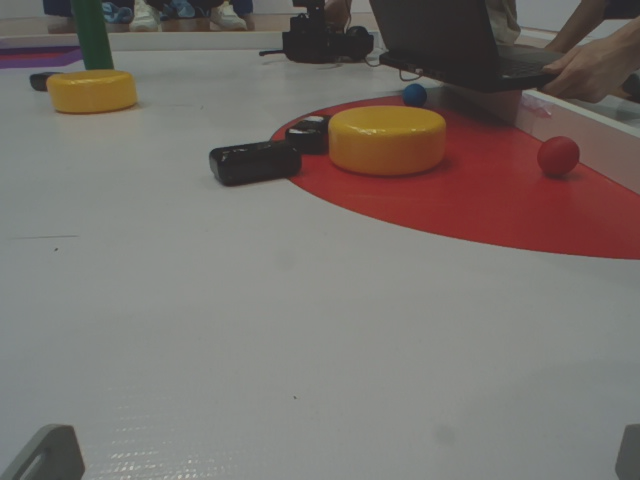black: (193, 131, 317, 187), (276, 95, 334, 153), (22, 67, 57, 94)
blue: (399, 81, 434, 115)
kuang: (1, 44, 79, 68)
red: (523, 130, 592, 185)
yellow: (326, 99, 454, 178), (47, 72, 149, 112)
zhuzi: (67, 2, 125, 76)
